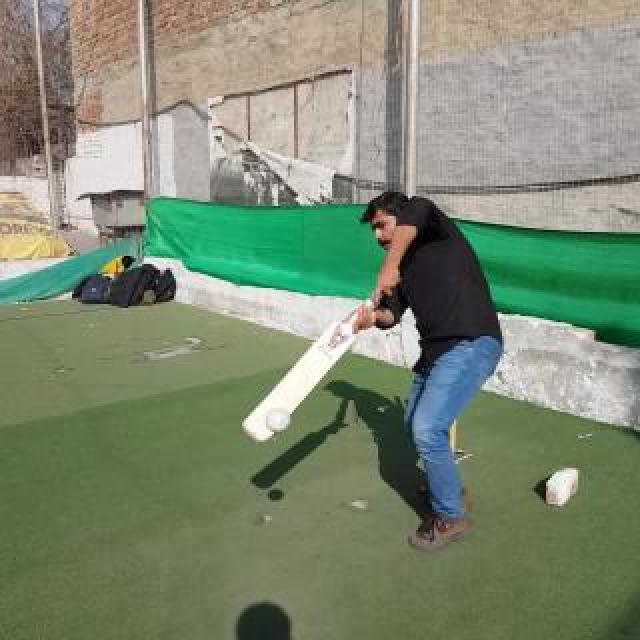ball: (266, 408, 292, 432)
bat: (242, 321, 356, 443)
